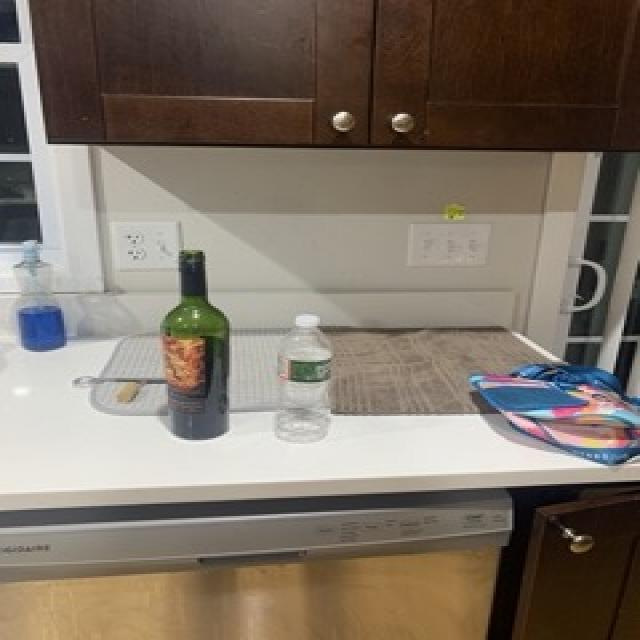water_bottle: (273, 312, 339, 448)
